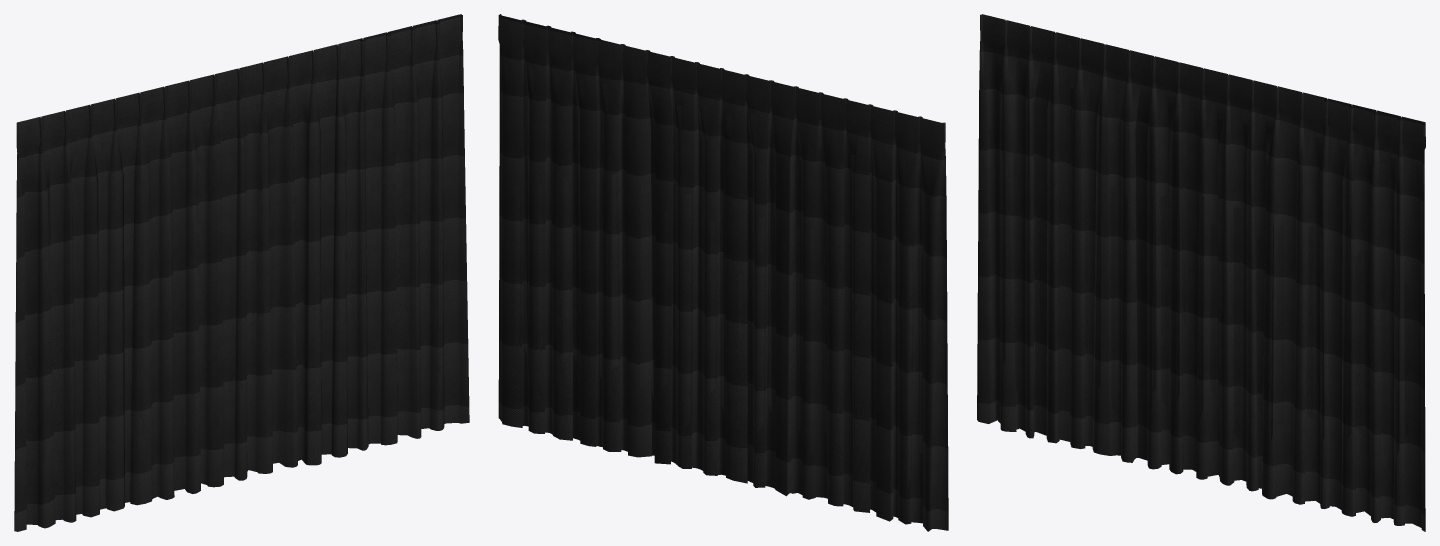
File: curtain.obj
The picture shows the model from 3 angles, left to right: view 1: azimuth 30°, elevation 25°; view 2: azimuth 150°, elevation 25°; view 3: azimuth 330°, elevation 25°; orthographic projection.
Visible parts, largest first — view 1: default; view 2: default; view 3: default.
Boxes of the visible parts, x1=… form: default: x1=14, y1=14, x2=469, y2=531; default: x1=498, y1=14, x2=948, y2=531; default: x1=977, y1=14, x2=1425, y2=531.
Size of the model in its own units: 1.11 by 0.9664 by 0.0497.
1 material, 1 textured.
